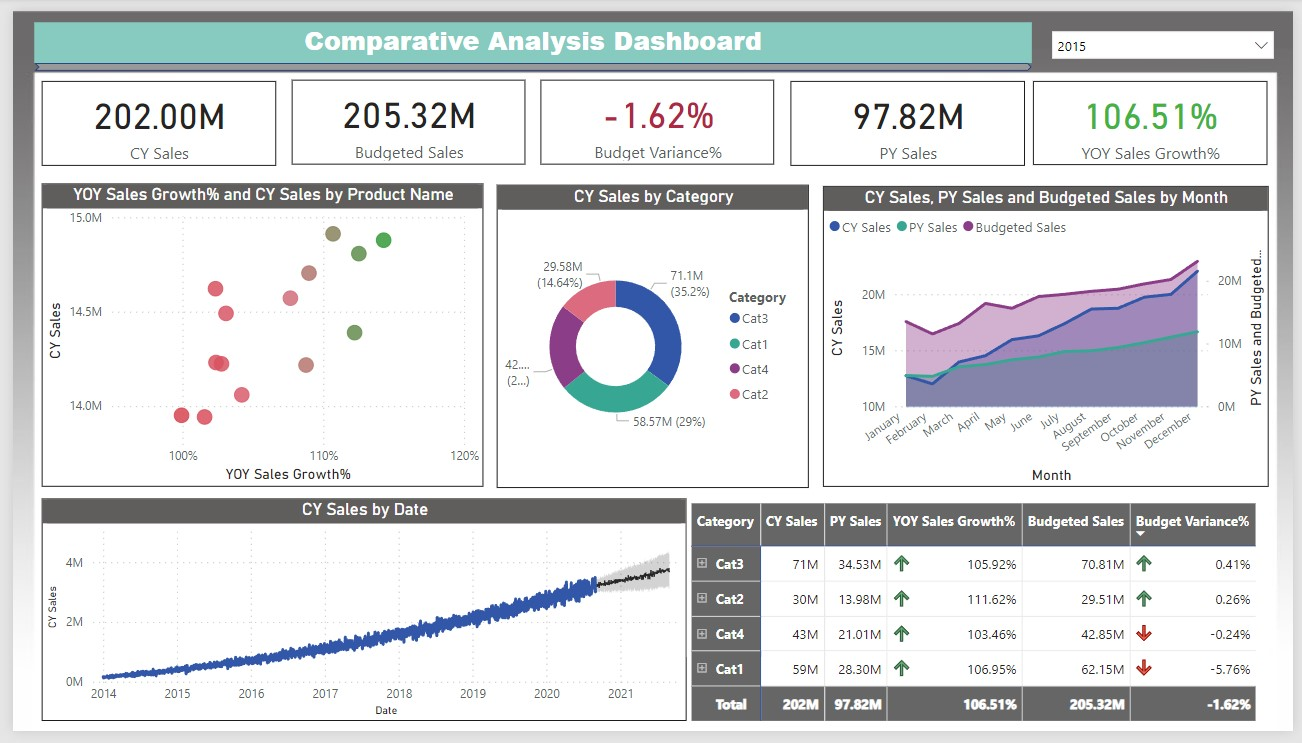

The page's visual inventory and layout, read from the dashboard file:
{"tool":"powerbi","page":{"name":"Dashboard","canvas":[1280,720],"ordinal":0},"visuals":[{"type":"card","fields":{"Values":["Sales.CY Sales"]},"box":[28.6,70.1,234.2,84.7],"z":0,"group":"g1"},{"type":"slicer","fields":{"Values":["Date Dim.Year","Date Dim.Month","Date Dim.QTR"]},"box":[1028.3,10.6,242.2,42.3],"z":0},{"type":"card","fields":{"Values":["Sales.Budgeted Sales"]},"box":[278.5,68.9,233.7,84.8],"z":1000,"group":"g1"},{"type":"group","id":"g1","title":"Group 1","box":[28.6,68.9,1226.2,85.7],"z":1000},{"type":"card","fields":{"Values":["Sales.YOY Sales Growth%"]},"box":[1020.4,69.8,234.1,84.4],"z":2000,"group":"g1"},{"type":"donutChart","fields":{"Category":["Product Master.Category"],"Y":["Sales.CY Sales"]},"box":[484.4,173.4,312.3,303.1],"z":2000},{"type":"card","fields":{"Values":["Sales.py Sales"]},"box":[776.7,70.1,234.2,84.7],"z":3000,"group":"g1"},{"type":"scatterChart","fields":{"Y":["Sales.CY Sales"],"Category":["Product Master.Product Name"],"X":["Sales.YOY Sales Growth%"]},"box":[28.6,172.6,441.7,303.6],"z":3000},{"type":"card","fields":{"Values":["Sales.Budget Variance%"]},"box":[527.4,68.9,233.7,84.8],"z":4000,"group":"g1"},{"type":"areaChart","fields":{"Category":["Date Dim.Month"],"Y":["Sales.CY Sales"],"Y2":["Sales.PY Sales","Sales.Budgeted Sales"]},"box":[809.5,175,445.2,301.2],"z":4000},{"type":"lineChart","fields":{"Category":["Date Dim.Date"],"Y":["Sales.CY Sales"]},"box":[28.8,487.5,645,222.5],"z":5000},{"type":"pivotTable","fields":{"Rows":["Product Master.Category","Product Master.Product Name"],"Values":["Sales.CY Sales","Sales.PY Sales","Sales.YOY Sales Growth%","Sales.Budgeted Sales","Sales.Budget Variance%"]},"box":[673.8,488.1,581,232.1],"z":6000},{"type":"shape","title":"Comparative Analysis Dashboard","box":[21.4,10.7,997.6,48.8],"z":7000}]}

Visuals, with their boxes in screenshot pixels (x1, y1, x2, y2), scaled from the page's 1280x720 canvas onto the 1302x743 screenshot:
card - Sales.CY Sales: detection(29, 72, 267, 160)
slicer - Date Dim.Year x Date Dim.Month: detection(1046, 11, 1292, 55)
card - Sales.Budgeted Sales: detection(283, 71, 521, 159)
"Group 1" group: detection(29, 71, 1276, 160)
card - Sales.YOY Sales Growth%: detection(1038, 72, 1276, 159)
donutChart - Product Master.Category x Sales.CY Sales: detection(493, 179, 810, 492)
card - Sales.py Sales: detection(790, 72, 1028, 160)
scatterChart - Sales.CY Sales x Product Master.Product Name: detection(29, 178, 478, 491)
card - Sales.Budget Variance%: detection(536, 71, 774, 159)
areaChart - Date Dim.Month x Sales.CY Sales: detection(823, 181, 1276, 491)
lineChart - Date Dim.Date x Sales.CY Sales: detection(29, 503, 685, 733)
pivotTable - Product Master.Category x Product Master.Product Name: detection(685, 504, 1276, 742)
"Comparative Analysis Dashboard" shape: detection(22, 11, 1037, 61)
